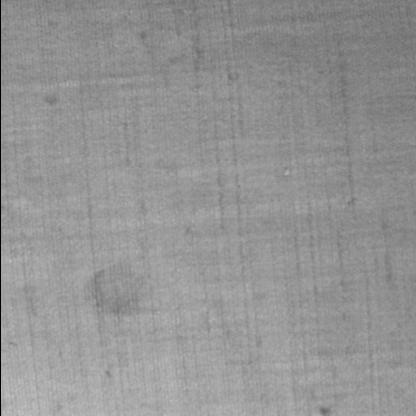oil spot: (80, 264, 158, 318)
